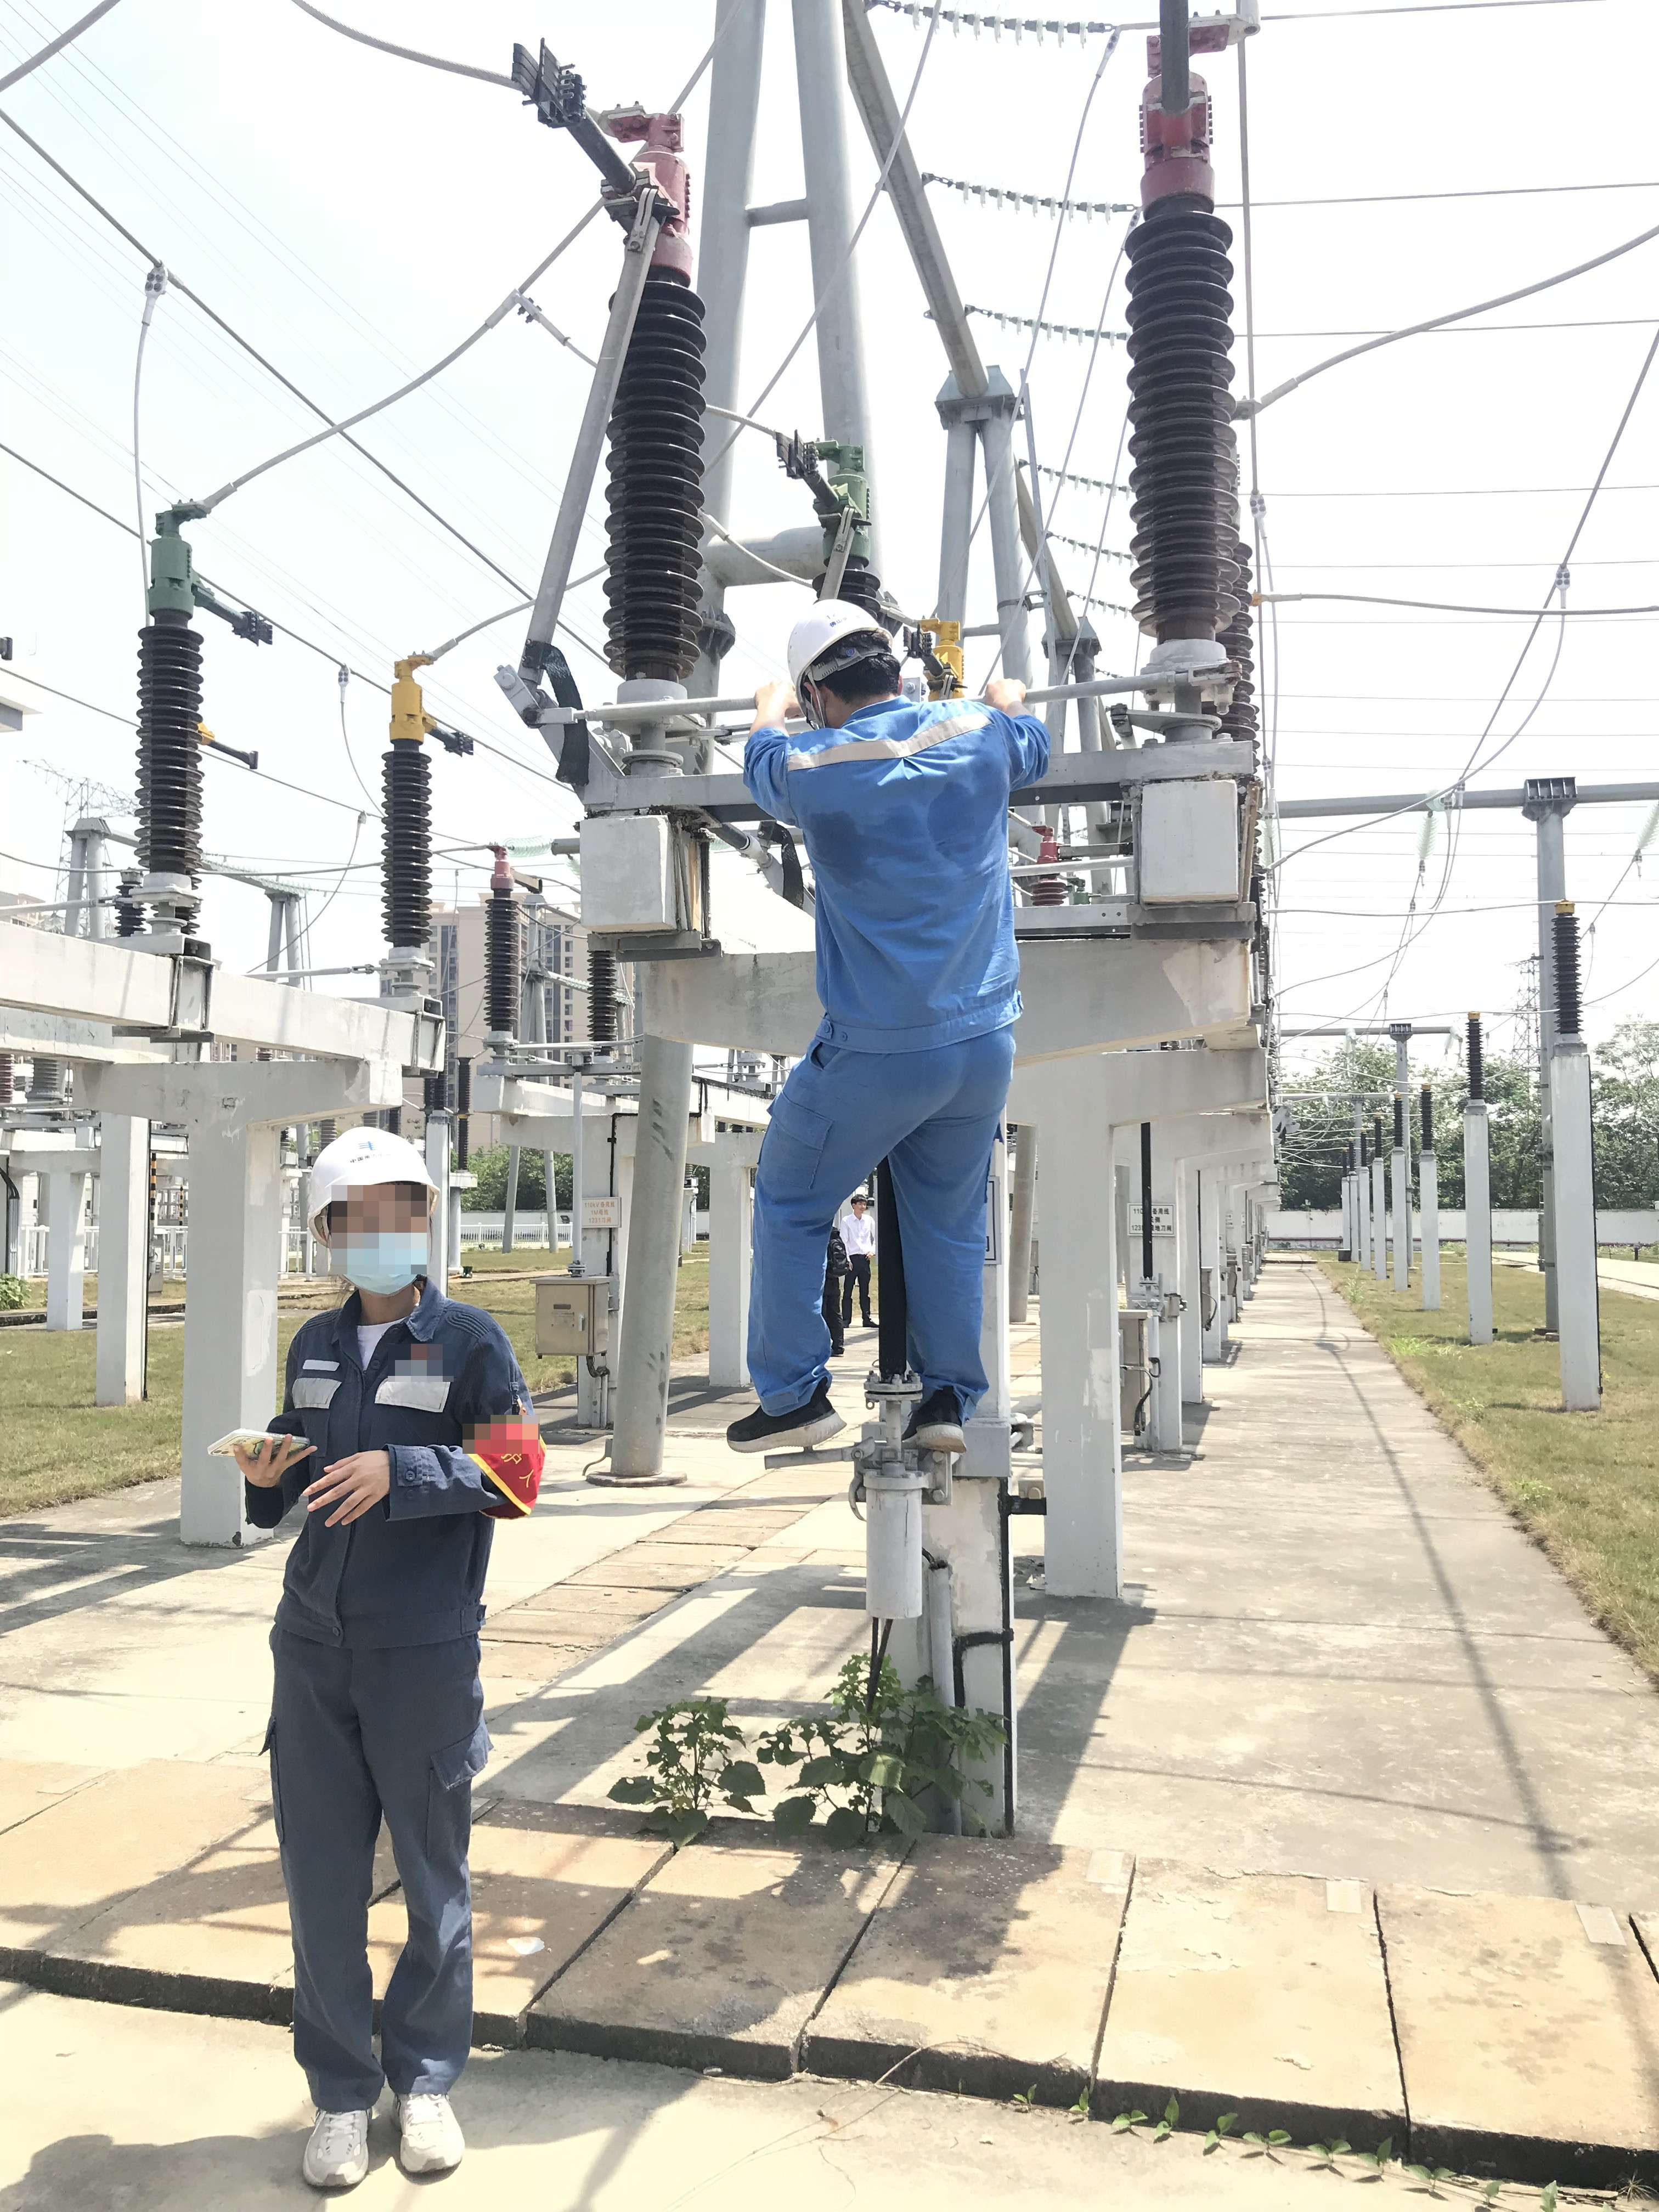downsuit: (286, 1665, 493, 2116), (748, 1068, 1014, 1406)
upsuit: (727, 702, 1058, 1047), (268, 1292, 545, 1639)
wrongtop: (751, 681, 793, 787), (999, 683, 1047, 759)
